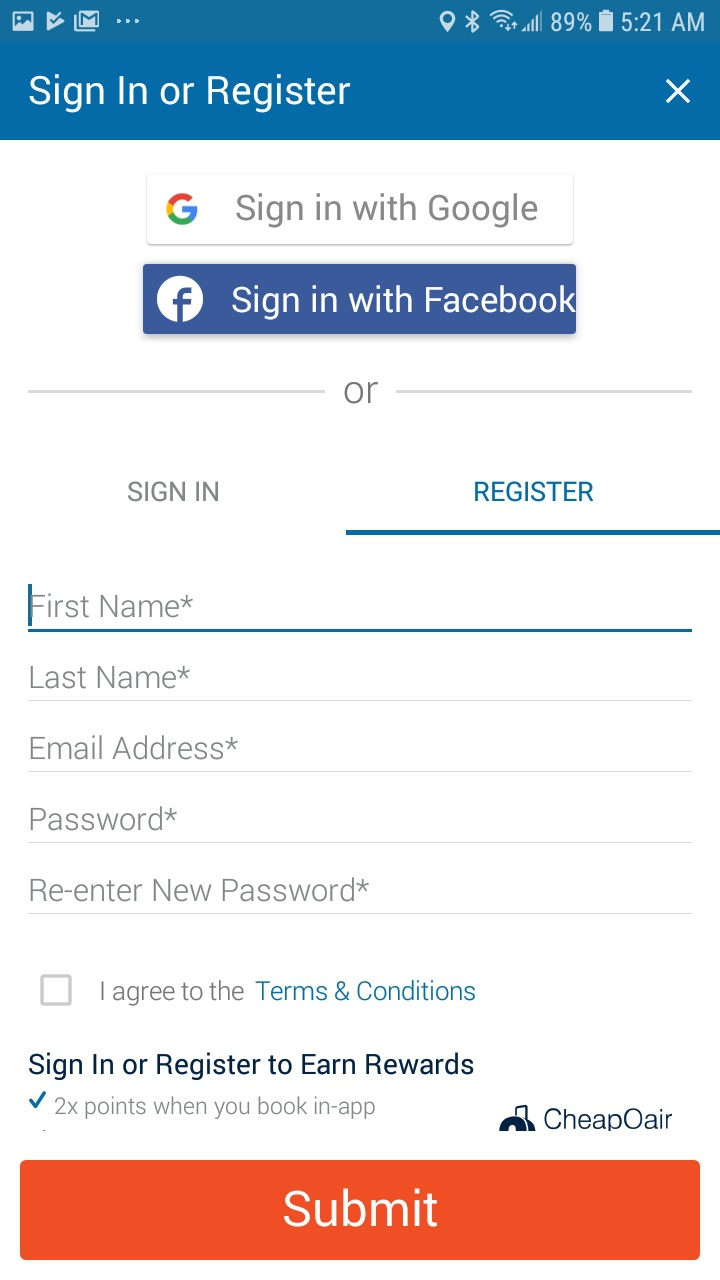CheckedTextView: (41, 973, 476, 1007)
EditText: (28, 584, 693, 633), (28, 734, 693, 773), (28, 806, 693, 844), (29, 877, 693, 915), (29, 665, 693, 702)
Icon: (665, 79, 691, 105), (29, 1090, 48, 1109)
Image: (498, 1104, 536, 1132)
Text: (29, 1051, 474, 1081), (29, 74, 351, 115), (101, 979, 476, 1007), (31, 877, 370, 902), (55, 1095, 376, 1120), (30, 734, 239, 760), (31, 593, 194, 619), (31, 665, 191, 690), (31, 807, 178, 832), (544, 1107, 673, 1132), (475, 480, 594, 502), (128, 481, 219, 503), (343, 381, 380, 403)
TextButton: (21, 1159, 701, 1260), (147, 173, 575, 246), (144, 264, 577, 335)
UpperTaskBar: (1, 1, 720, 43)
